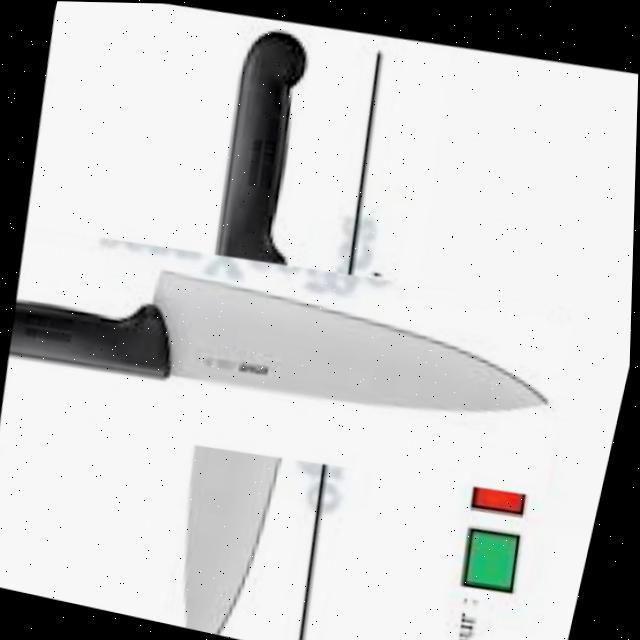knife: (119, 19, 375, 640), (1, 236, 564, 470)
